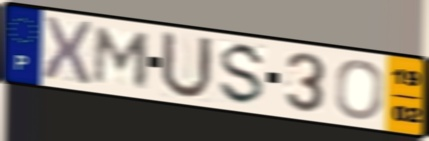3: (282, 51, 328, 115)
M: (90, 24, 154, 90)
O: (333, 58, 386, 122)
S: (215, 41, 269, 108)
U: (157, 28, 216, 102)
X: (41, 13, 95, 87)
